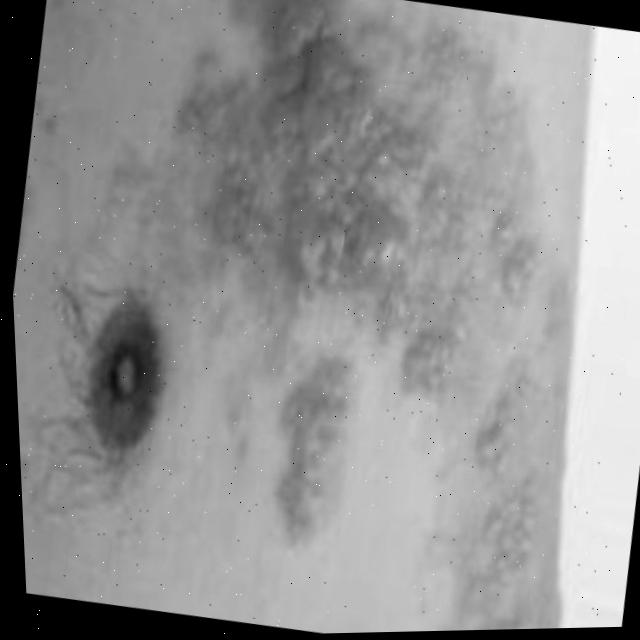Shingles: (153, 0, 624, 632)
